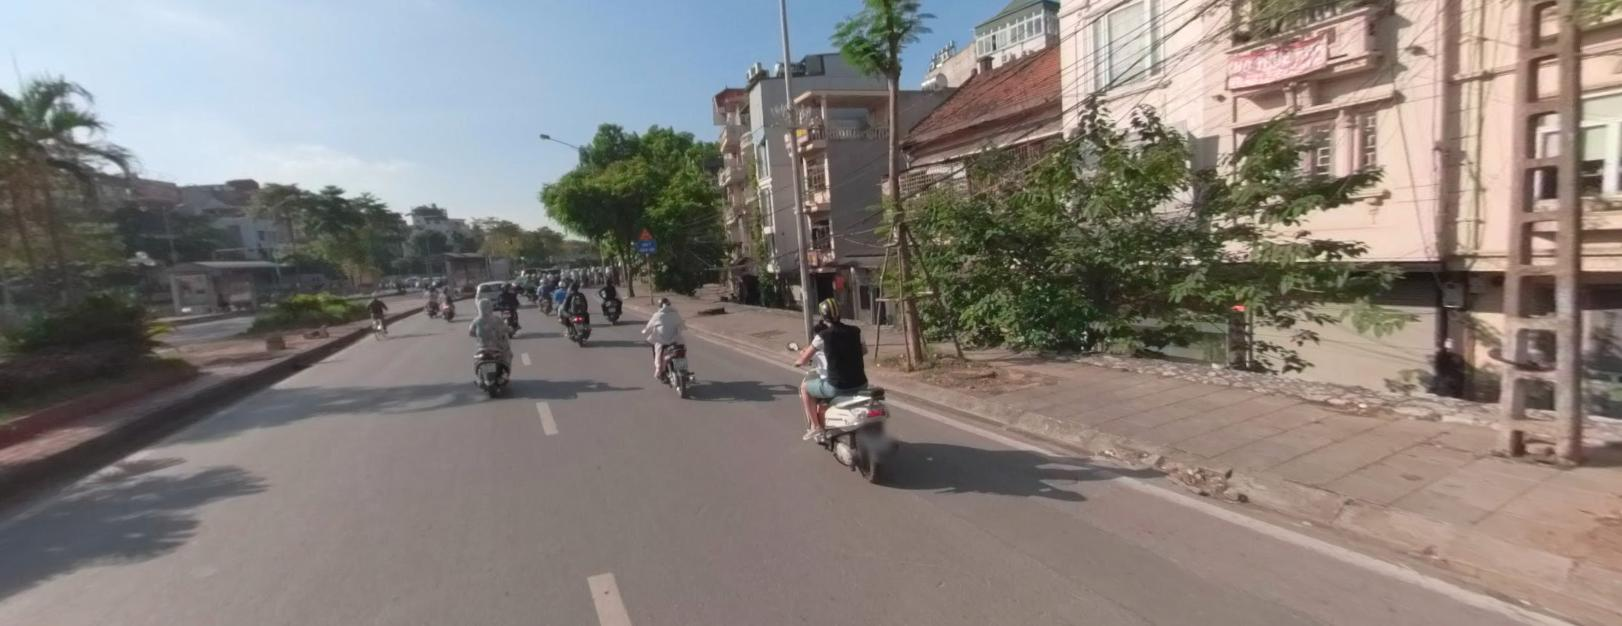Nguy hiem: (636, 227, 651, 238)
